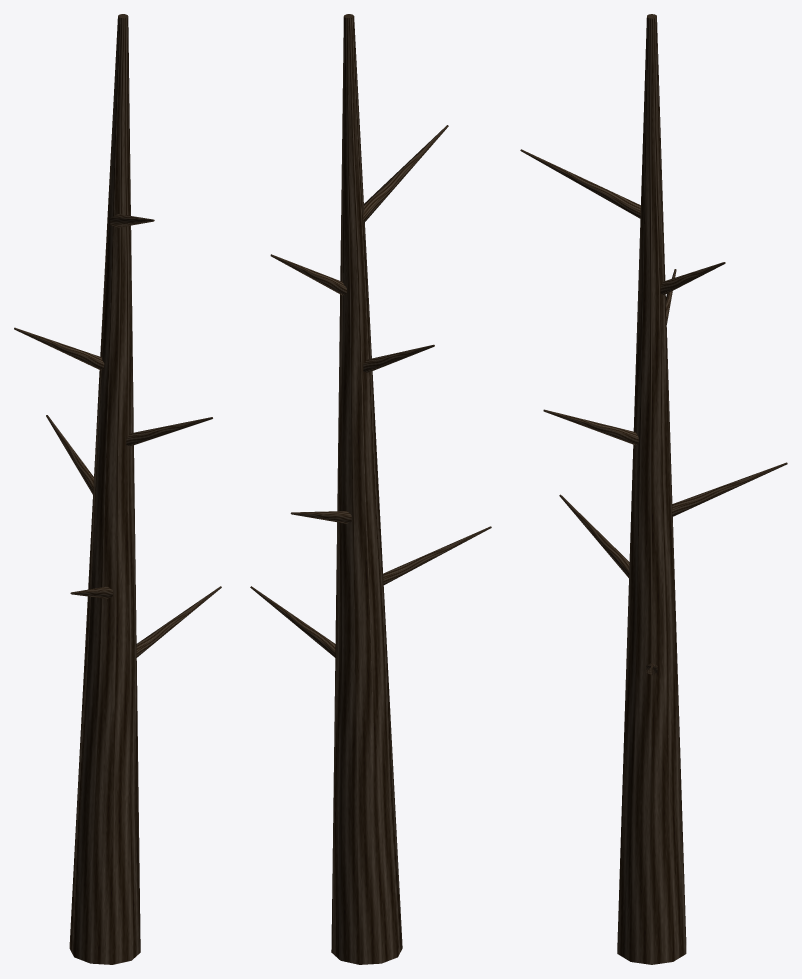
File: forest_snag.glb
3 renders of one model, left to right at view 1: azimuth 30°, elevation 25°; view 2: azimuth 150°, elevation 25°; view 3: azimuth 270°, elevation 25°, orthographic.
Parts seen in each view (by area): view 1: forest_snag; view 2: forest_snag; view 3: forest_snag.
Part boxes in pixels (bbox=[...]): forest_snag: bbox=[14, 14, 221, 964]; forest_snag: bbox=[250, 14, 491, 964]; forest_snag: bbox=[520, 14, 787, 964].
Size of the model in its own units: 1.52 by 6.89 by 1.77.
Materials: 1 (1 with a texture image).
